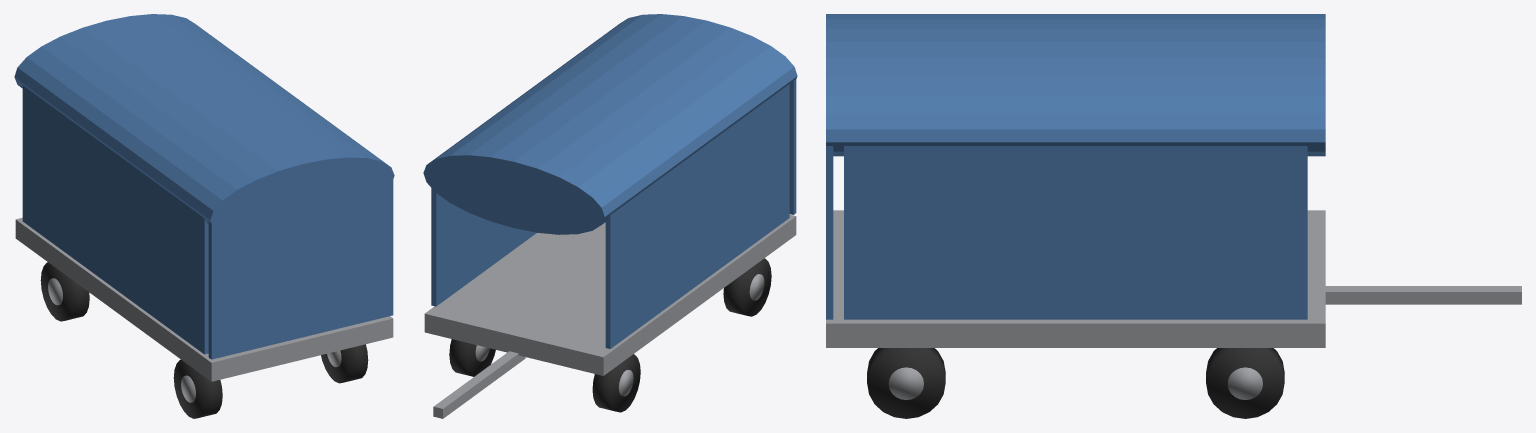
The model's file is baggage-cart.glb.
3 views of the same model, side by side, from view 1: azimuth 30°, elevation 25°; view 2: azimuth 150°, elevation 25°; view 3: azimuth 270°, elevation 25° (orthographic). The views are drawn at different scales.
Parts seen in each view (by area): view 1: Baggage cart hub 00.001; view 2: Baggage cart hub 00.001; view 3: Baggage cart hub 00.001.
Part boxes in pixels (x1,y1,x2,y2): Baggage cart hub 00.001: [14, 14, 394, 418]; Baggage cart hub 00.001: [423, 14, 797, 418]; Baggage cart hub 00.001: [826, 14, 1521, 418].
Size of the model in its own units: 1.52 by 2.02 by 3.9.
